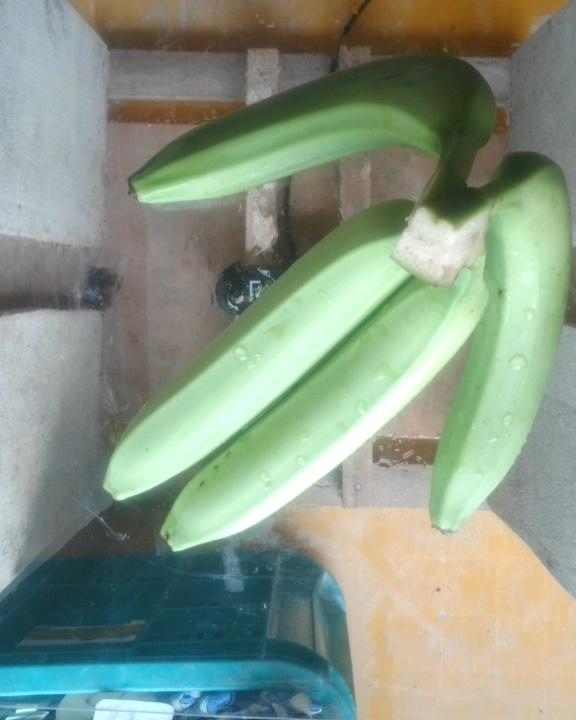SPOT: (63, 41, 576, 566)
